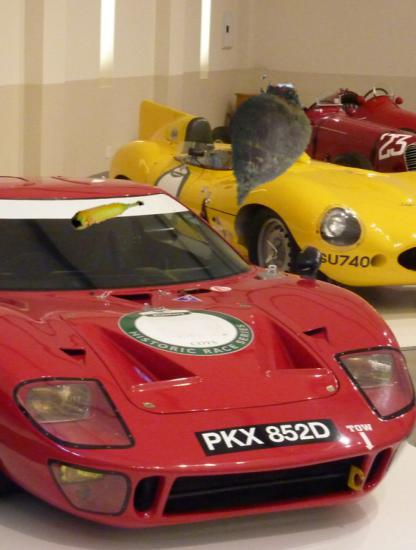Banana: (69, 174, 147, 252)
Beetroot: (195, 74, 340, 219)
